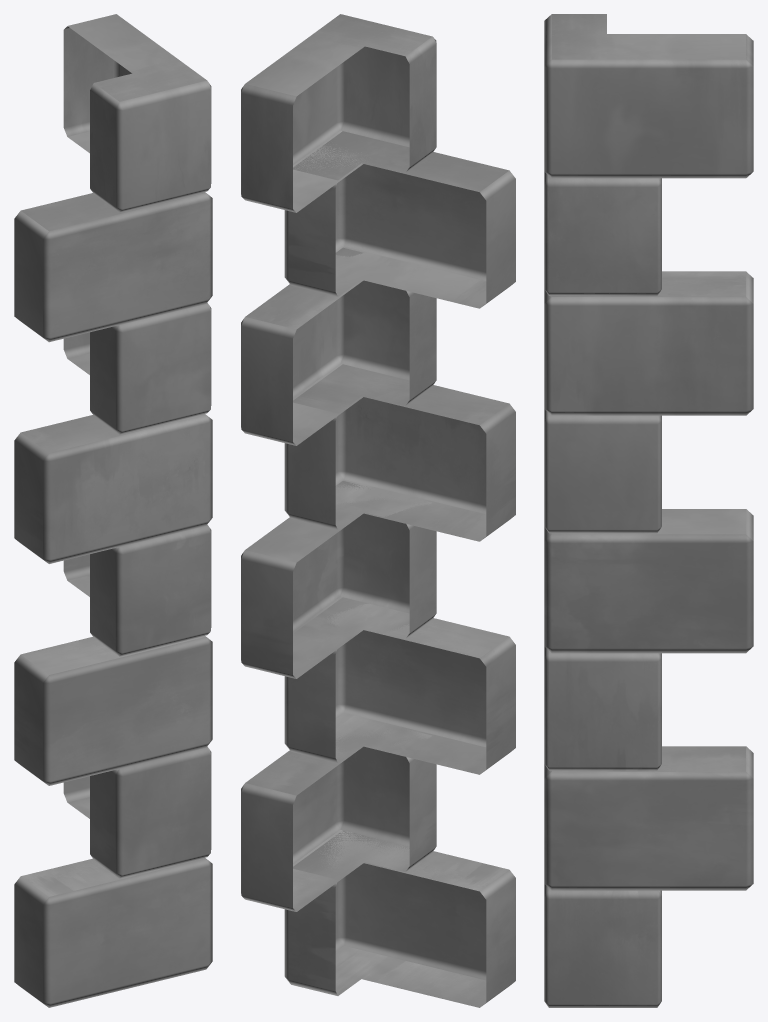
The model's file is CornerBrick_A.fbx.
3 views of the same model, side by side, from view 1: azimuth 30°, elevation 25°; view 2: azimuth 150°, elevation 25°; view 3: azimuth 270°, elevation 25° (orthographic). The views are drawn at different scales.
Parts seen in each view (by area): view 1: Cube.055; view 2: Cube.055; view 3: Cube.055.
Boxes of the visible parts, <box> form: Cube.055: <box>14,14,212,1007</box>; Cube.055: <box>241,14,515,1007</box>; Cube.055: <box>544,14,753,1007</box>.
Size of the model in its own units: 80 by 400 by 80.
